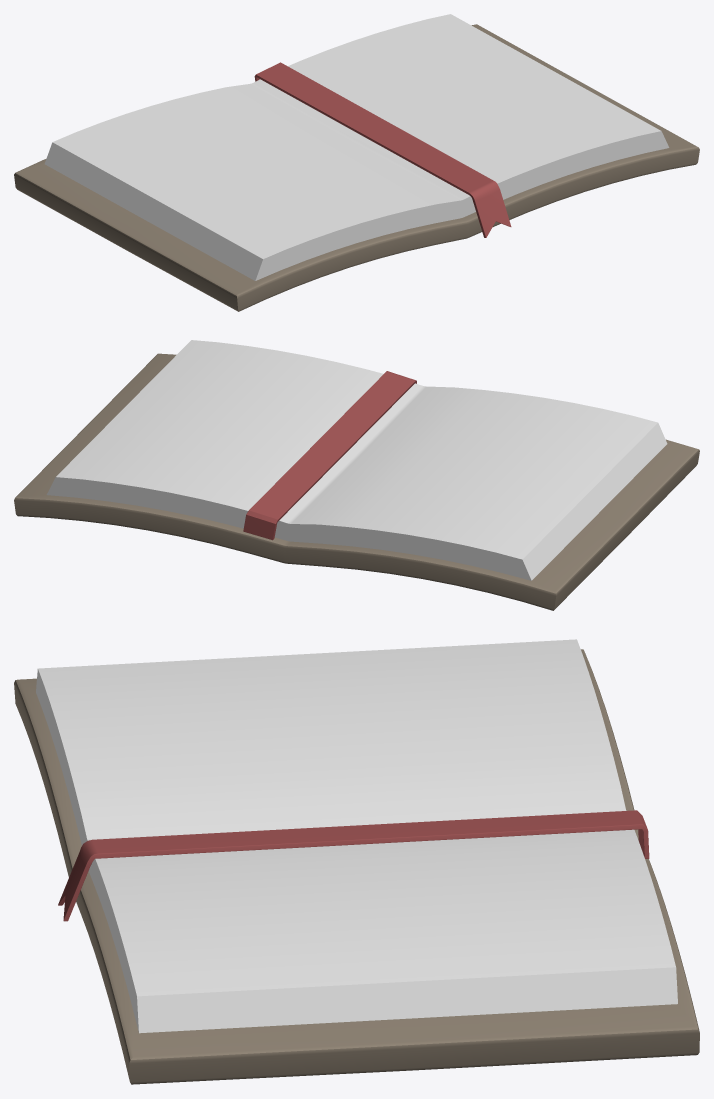
Rendered from mainRoom_book.fbx.
3 renders of one model, top to bottom at view 1: azimuth 30°, elevation 25°; view 2: azimuth 150°, elevation 25°; view 3: azimuth 270°, elevation 25°, orthographic. The views are drawn at different scales.
Visible parts, largest first — view 1: book; view 2: book; view 3: book.
Part boxes in pixels (x1=…): book: x1=14, y1=14, x2=699, y2=311; book: x1=14, y1=340, x2=699, y2=610; book: x1=14, y1=639, x2=699, y2=1084.
Size of the model in its own units: 18.05 by 1.49 by 12.71.
